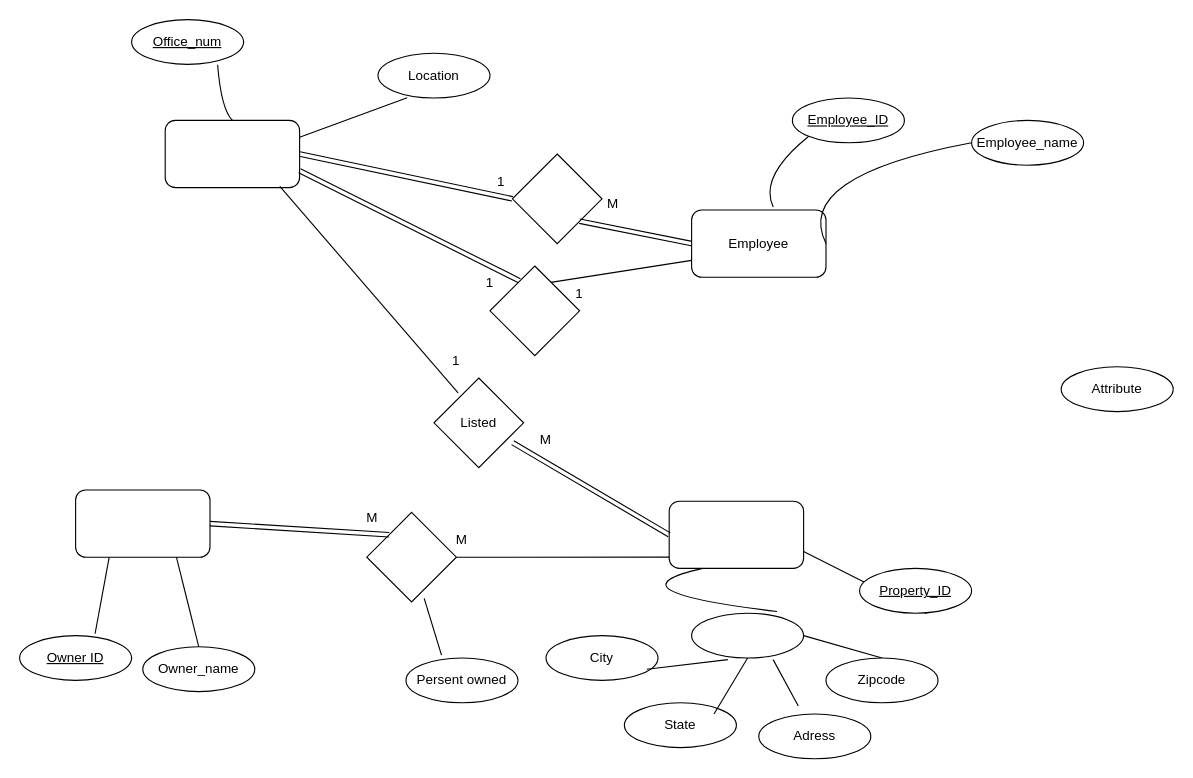
Some shapes in this 1193 by 778 pixel diagram are drawn without their labels. The shapes that lost their labels are listed below. From the top down, each one's box as (x1, y1, x2, y2) in pixels, then its label:
(164, 119, 300, 188): Sales office
(511, 153, 602, 244): Assigned
(489, 265, 580, 356): Manage
(74, 489, 210, 557): Owner
(668, 500, 804, 568): Property
(366, 511, 456, 602): Have
(690, 612, 804, 658): Locatio
